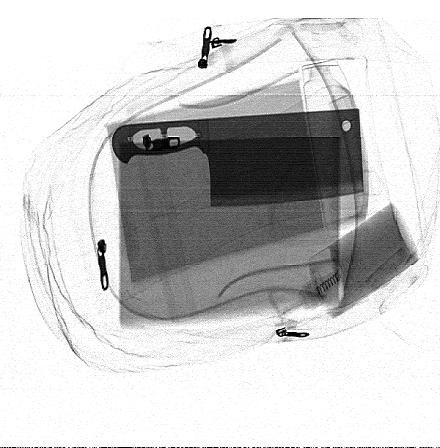Knife: (111, 107, 365, 208)
